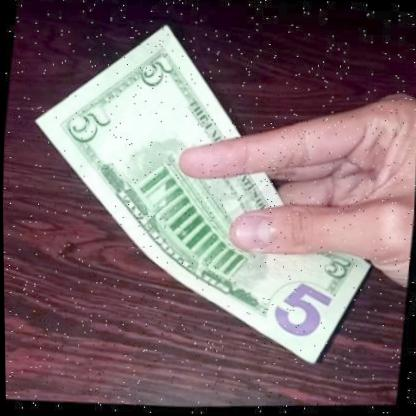five-back: (9, 2, 400, 371)
